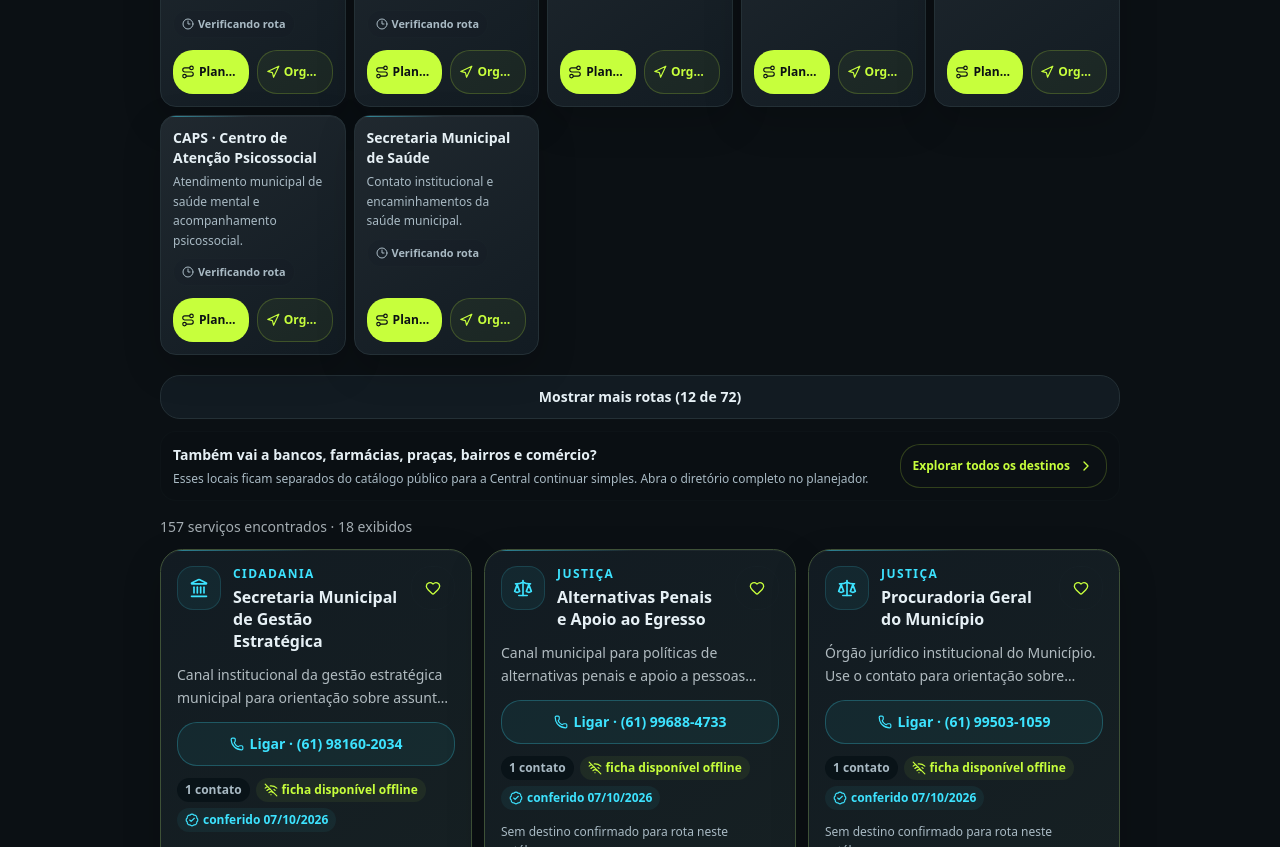
Test: batches ready destinations while searching routes beyond the first batch
The image size is (1280, 847).
(page scrolled)
Click the button "Mostrar mais rotas (12 de 72)": coordinates (640, 397) [160,375,1120,419]
(page scrolled)
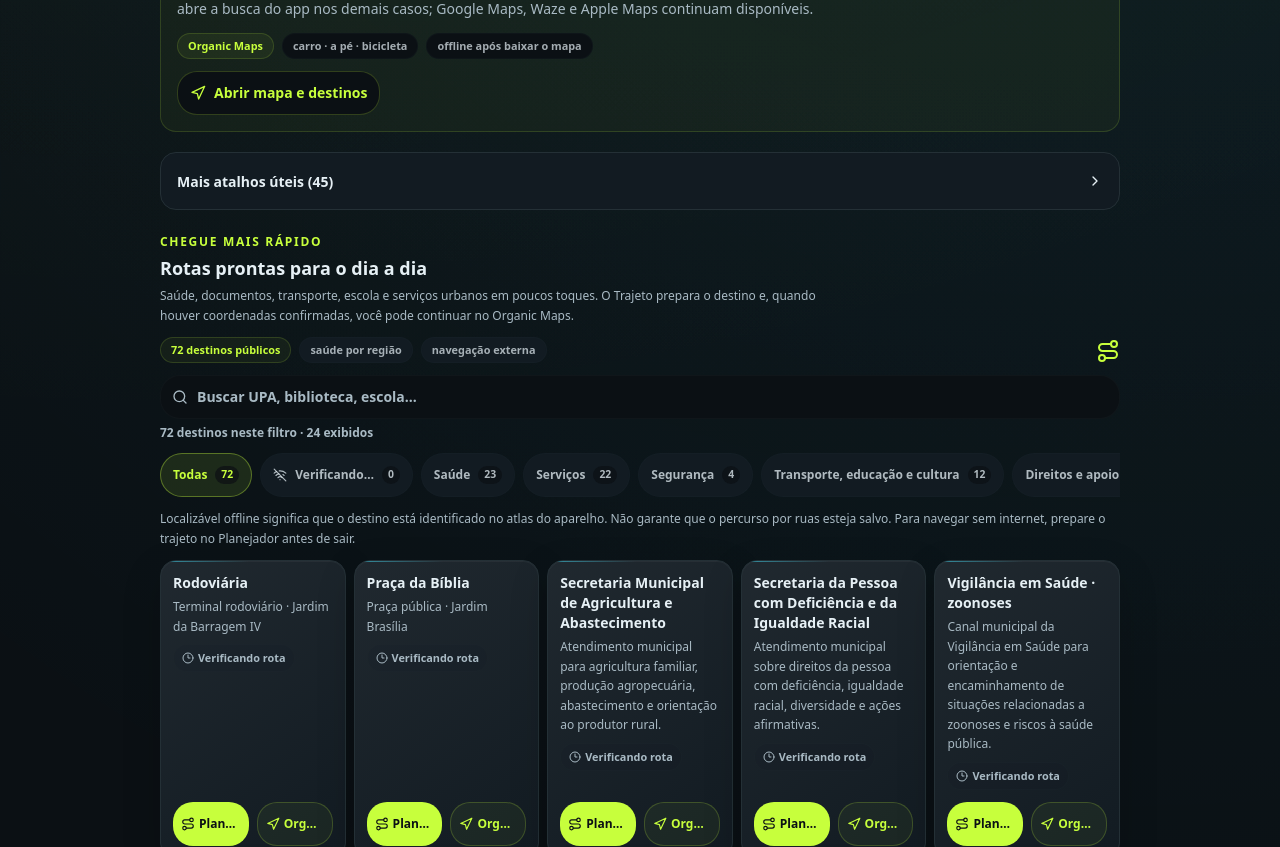
In the search field named "Buscar rota pronta": coordinates (640, 397) [160,375,1120,419], type "baixar empresa"
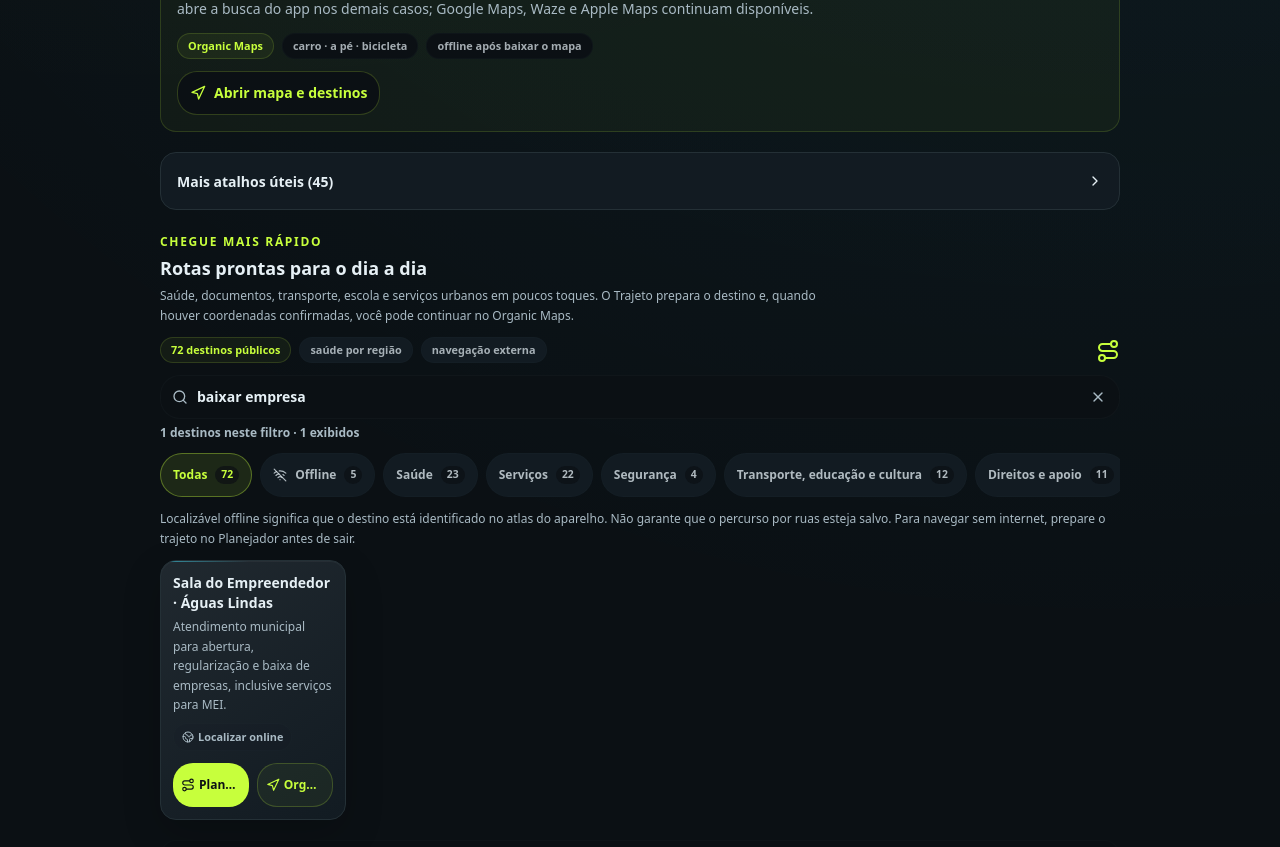
Expected: the button with aria-label "Planejar rota para Sala do Empreendedor" is shown, [173,763,249,807]
